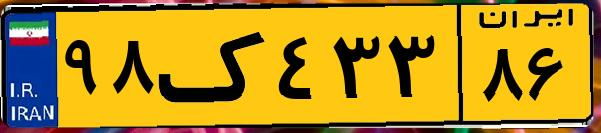3: (385, 28, 445, 110), (330, 28, 385, 110)
4: (270, 28, 330, 110)
6: (525, 38, 570, 115)
8: (475, 38, 525, 113), (110, 28, 158, 98)
9: (57, 26, 110, 100)
ک: (158, 12, 270, 120)
